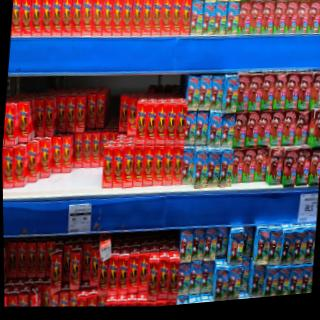beverage: (145, 244, 164, 301), (16, 99, 36, 147), (120, 136, 136, 189), (136, 244, 152, 295), (48, 245, 64, 296), (154, 98, 170, 148), (12, 143, 29, 190), (172, 102, 189, 148), (144, 96, 159, 148), (116, 246, 131, 298), (26, 138, 42, 186), (37, 134, 54, 179), (110, 146, 125, 190), (161, 142, 175, 187), (60, 133, 75, 175), (100, 0, 114, 39), (110, 0, 124, 38), (184, 110, 199, 145), (50, 0, 64, 37), (89, 0, 103, 36), (70, 0, 84, 36), (60, 0, 73, 37), (80, 0, 92, 38), (121, 0, 133, 36)
